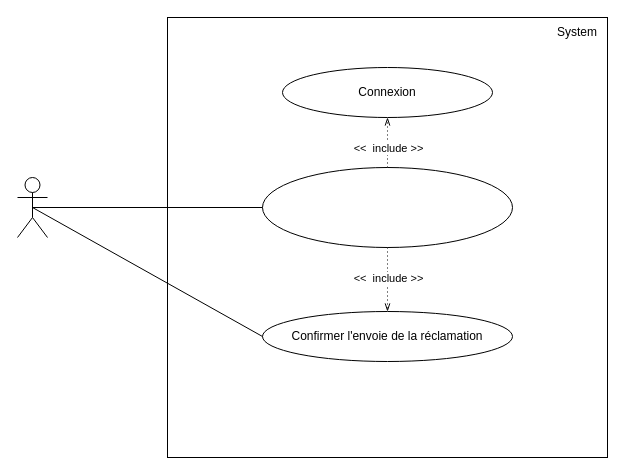
Some shapes in this 625 by 475 pixel diagram are drawn without their labels. The shapes that lost their labels are listed below. From the top down, each one's centre as x and y in pixels, then its label:
At (x=32, y=207): "Client".
At (x=387, y=207): "Rédiger une réclamation".
